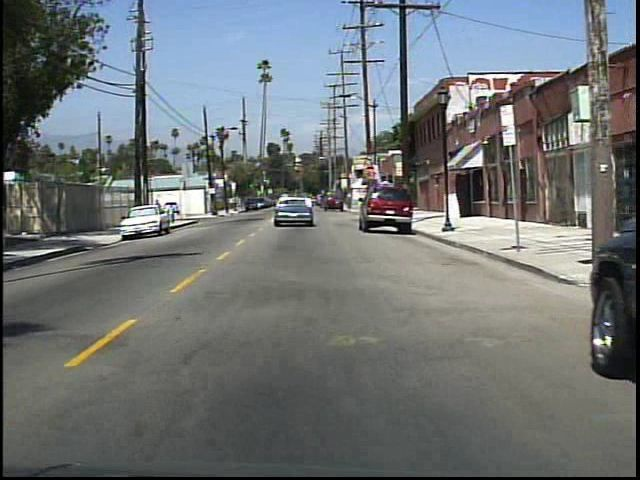person: (151, 195, 165, 225), (167, 199, 180, 224)
